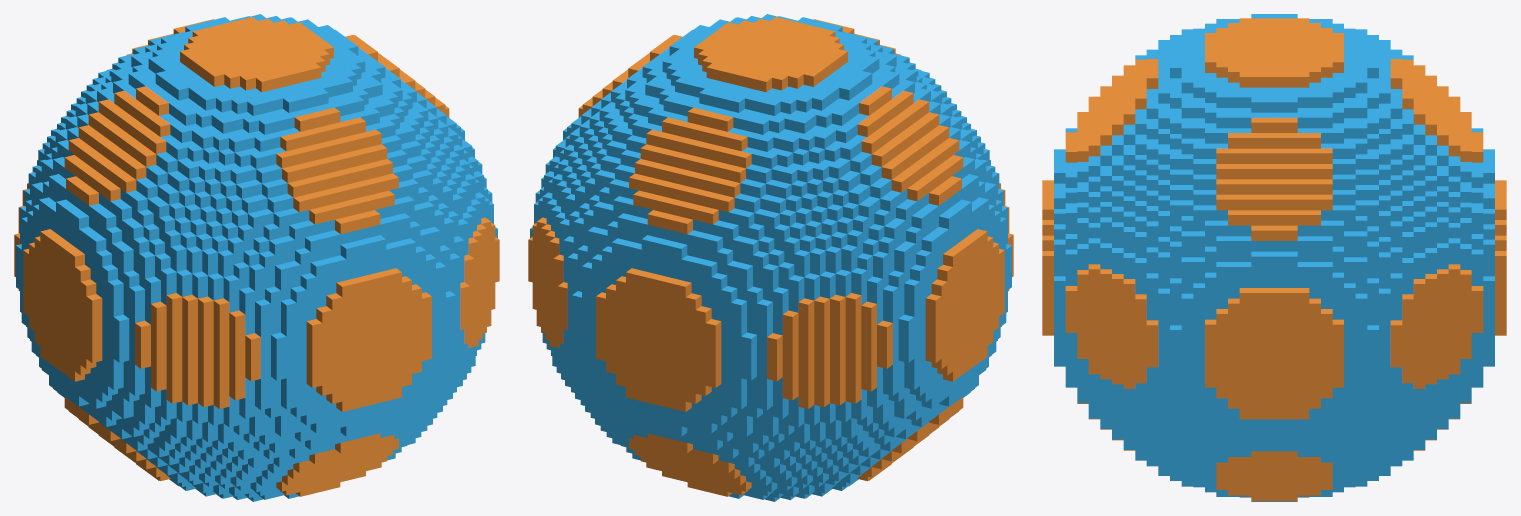
File: Character_2.fbx
3 views of the same model, side by side, from view 1: azimuth 30°, elevation 25°; view 2: azimuth 150°, elevation 25°; view 3: azimuth 270°, elevation 25° (orthographic).
Visible parts, largest first — view 1: Character_2; view 2: Character_2; view 3: Character_2.
Part boxes in pixels (x1,y1,x2,y2): Character_2: (14, 14, 499, 501); Character_2: (528, 14, 1013, 501); Character_2: (1042, 14, 1506, 501).
Size of the model in its own units: 40 by 40 by 40.
Materials: 1 (1 with a texture image).
